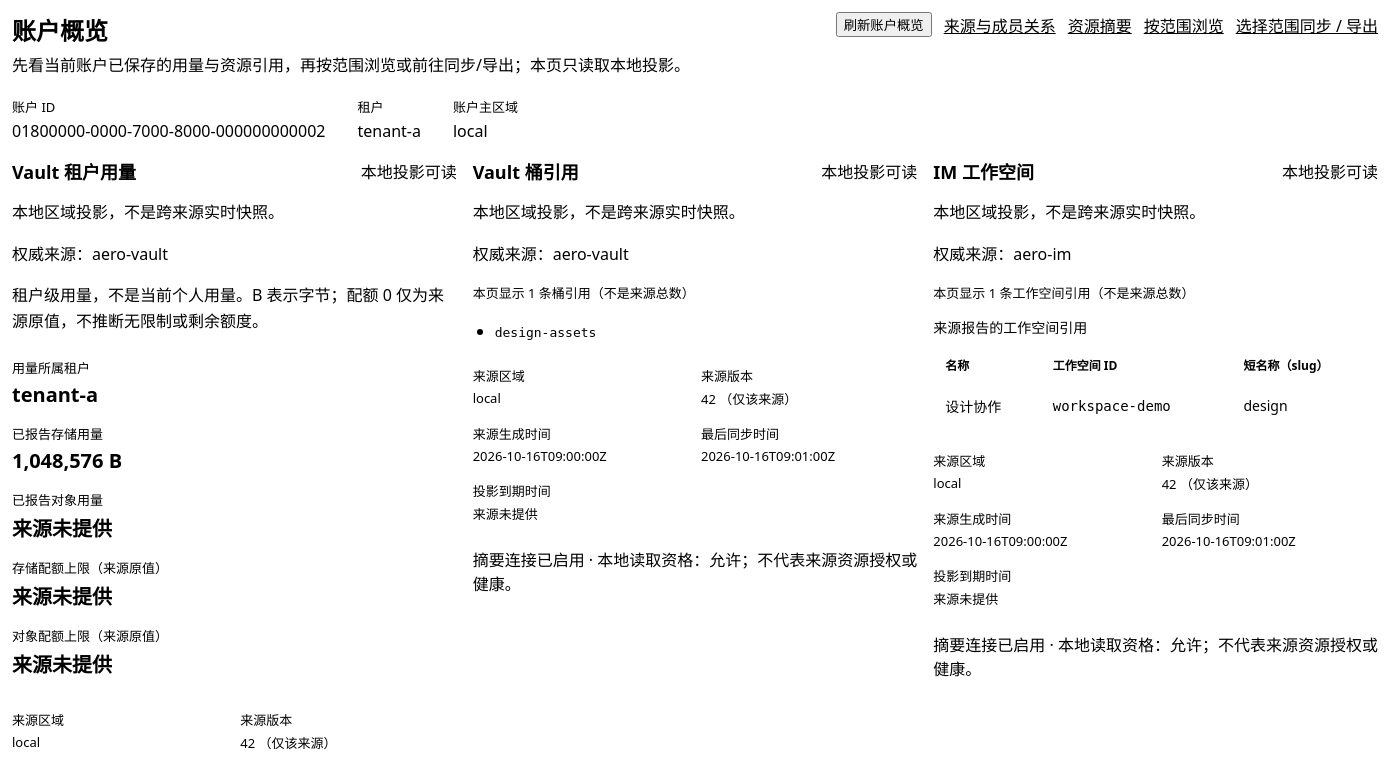
Test: account overview and scoped business data browsing › explicitly refreshes the same three overview reads and does not query or submit a task
Click the button "刷新账户概览".
click(884, 24)  # box [836,12,932,37]
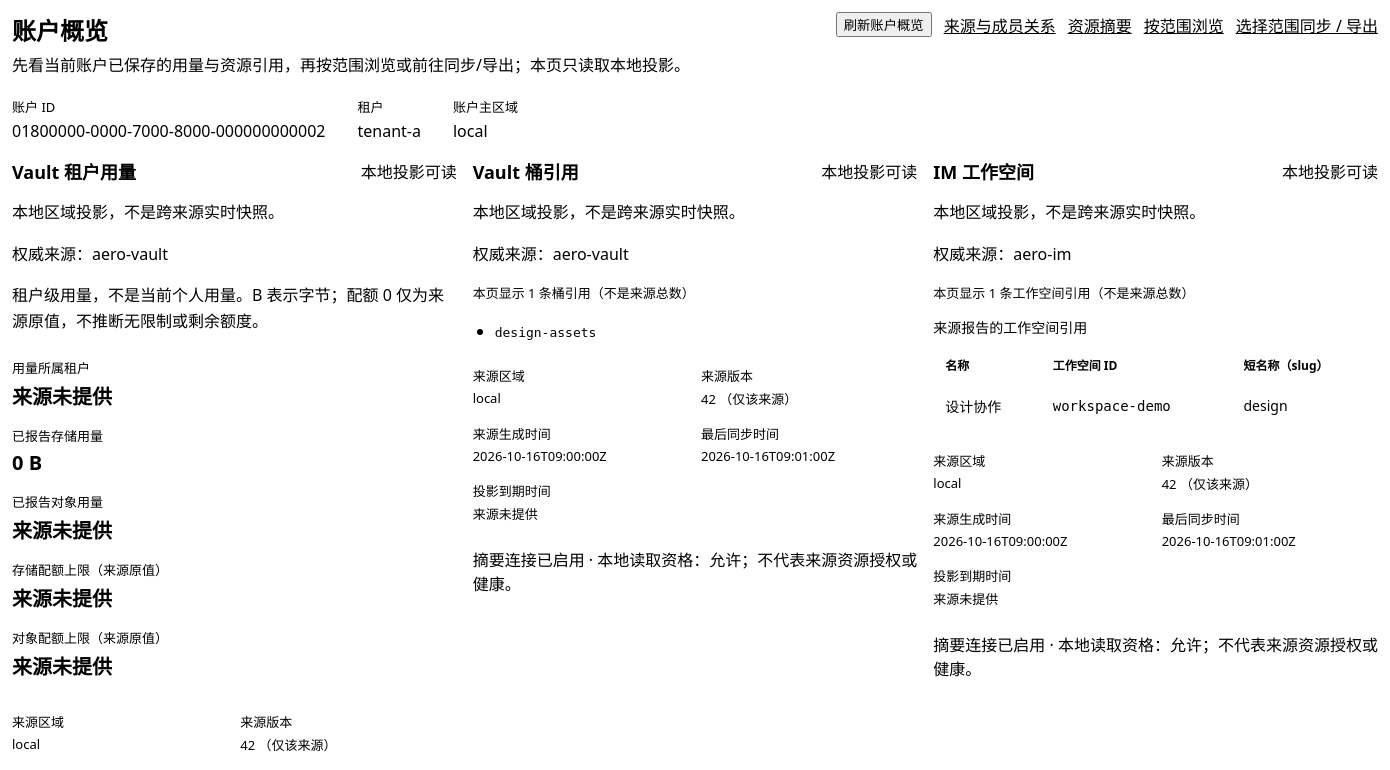
Result: the text "0 B" is shown at [12,449,42,476]
